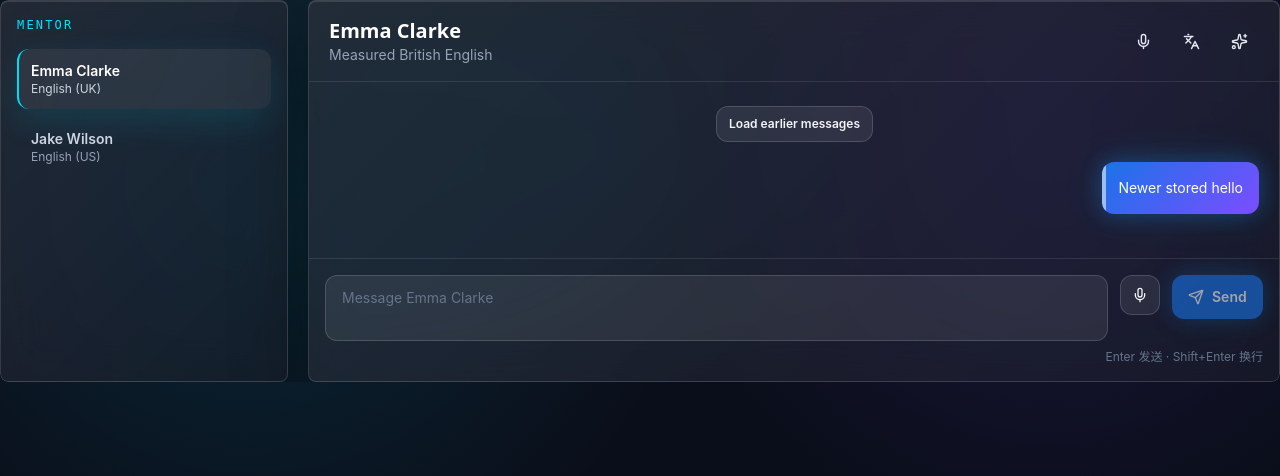
Test case: ChatWorkspace mobile mentor drawer › loads earlier messages for the active session without replacing current messages
The width and height of the screenshot is (1280, 476).
Expected: the text "Newer stored hello" is shown, x1=1118 y1=174 x2=1243 y2=202
Step 1. Click the button "Load earlier messages" → [794, 124], box x1=716 y1=106 x2=872 y2=142
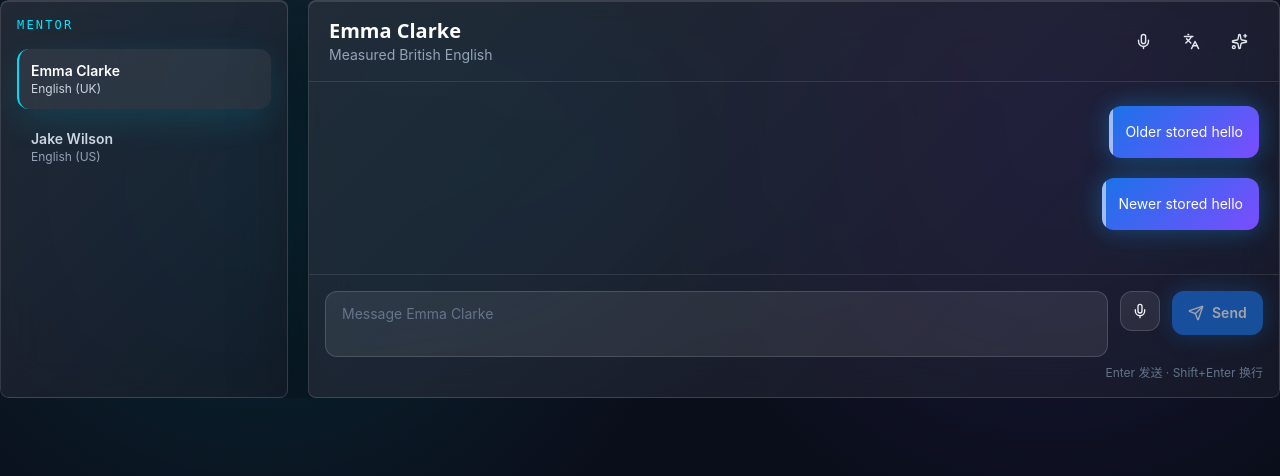
Expected: the text "Newer stored hello" is shown, x1=1118 y1=190 x2=1243 y2=218
Expected: the text "Older stored hello" is shown, x1=1125 y1=118 x2=1243 y2=146
Expected: the button "Load earlier messages" is gone
